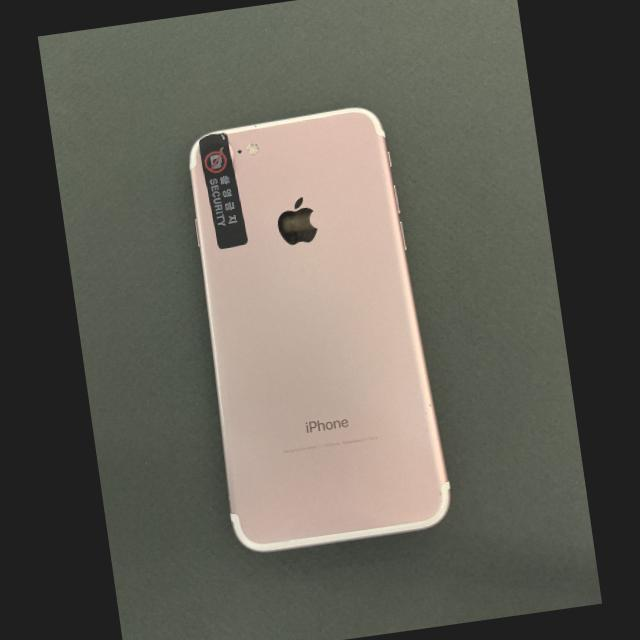phone: (190, 109, 450, 551)
sticker: (198, 134, 248, 251)
